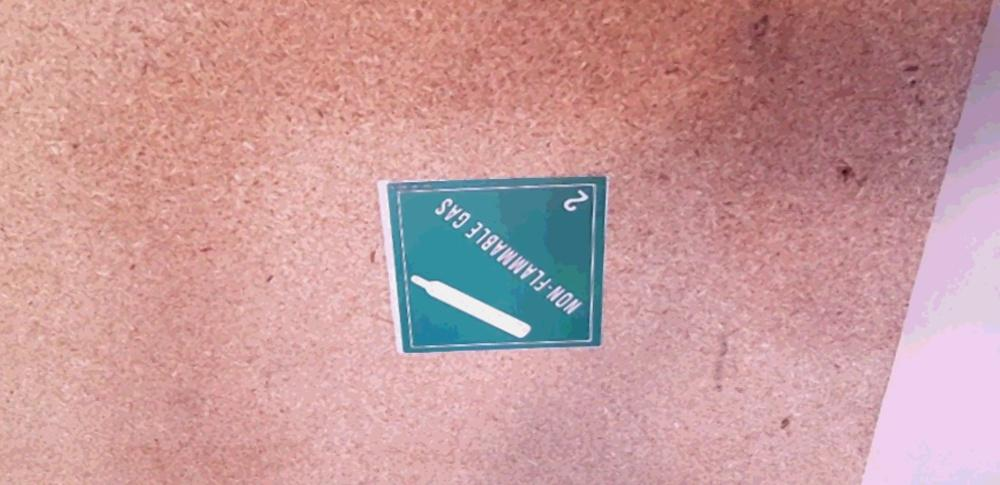non-flammable-gas: (388, 178, 611, 358)
